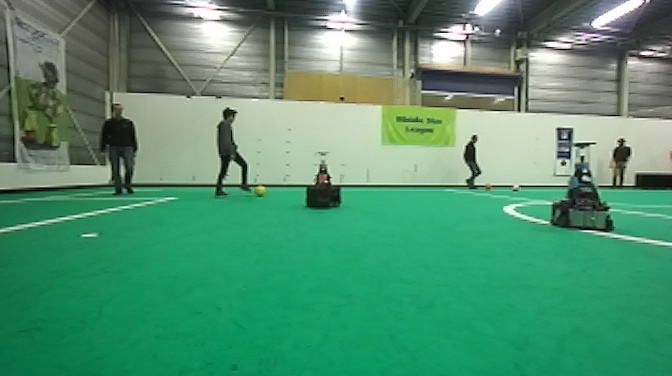ball: (252, 183, 267, 200), (483, 181, 493, 193), (511, 183, 521, 193)
human: (97, 99, 142, 199), (212, 105, 254, 198), (609, 133, 635, 190), (461, 131, 484, 189)
robot: (549, 142, 615, 233), (305, 148, 343, 212)
